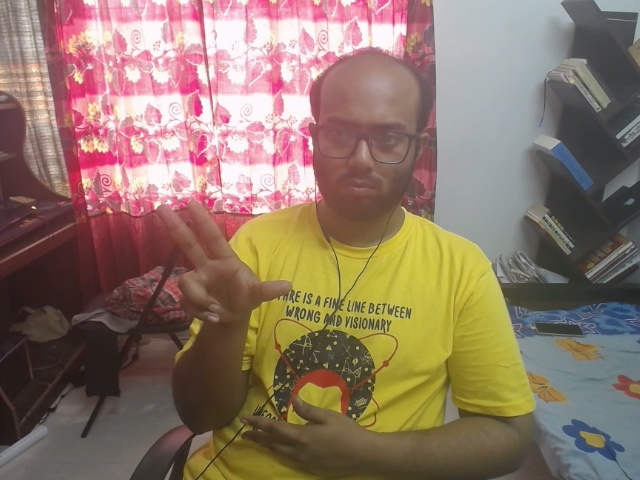eight: (137, 185, 300, 346)
